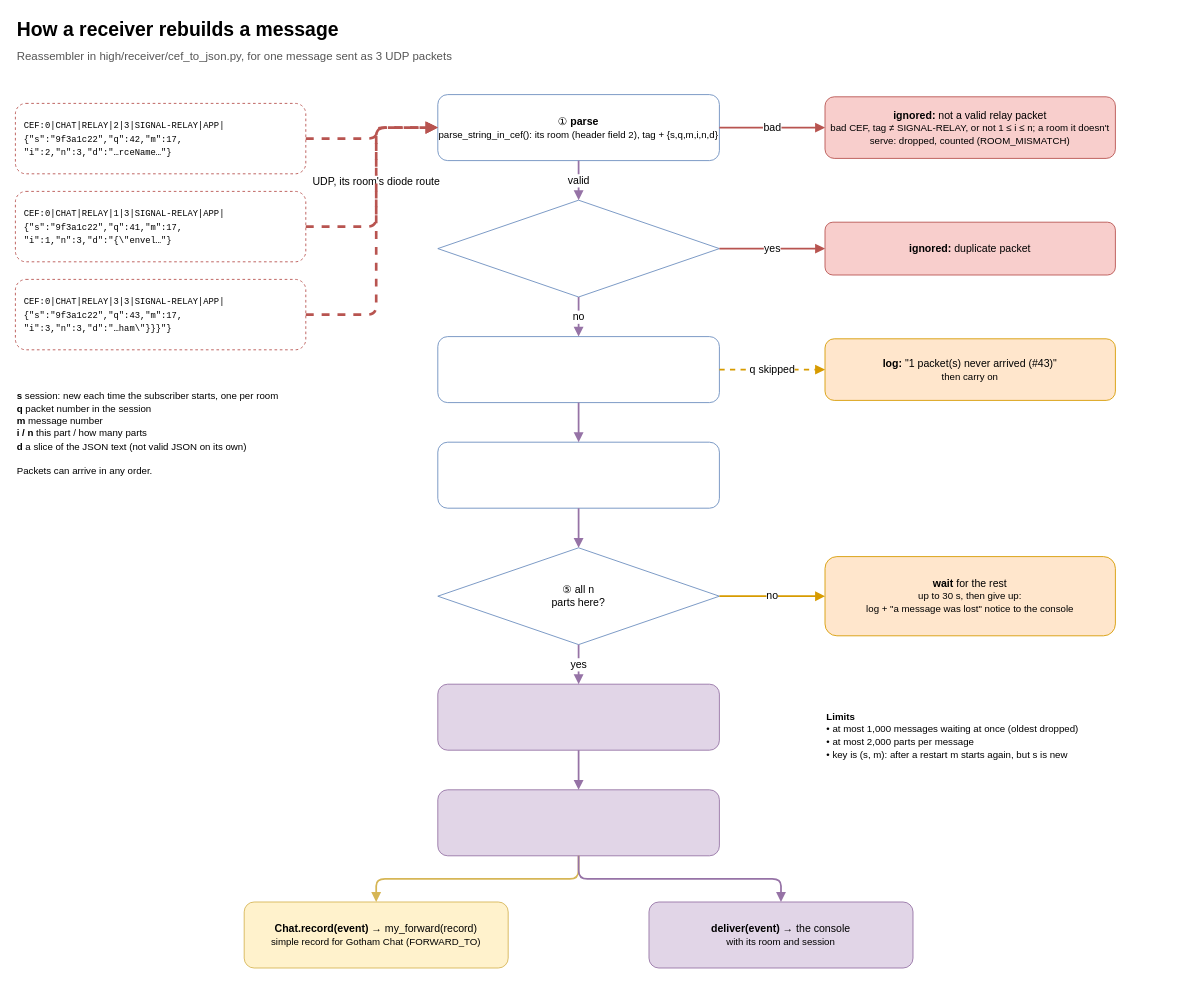
The diagram is 1192 pixels wide and 983 high, and some of its shapes have lost their labels. The shapes that lost their labels are listed below. From the top down, each one's centre as x and y in pixels, then its label:
point 578,248: ② seen (s, q) before?
point 578,369: ③ check for gaps next expected q for this session
point 578,474: ④ collect pending[(s, m)].parts[i] = d
point 578,716: join in order 1…n, then json.loads() arrival order doesn't matter
point 578,822: the original signal-cli event
